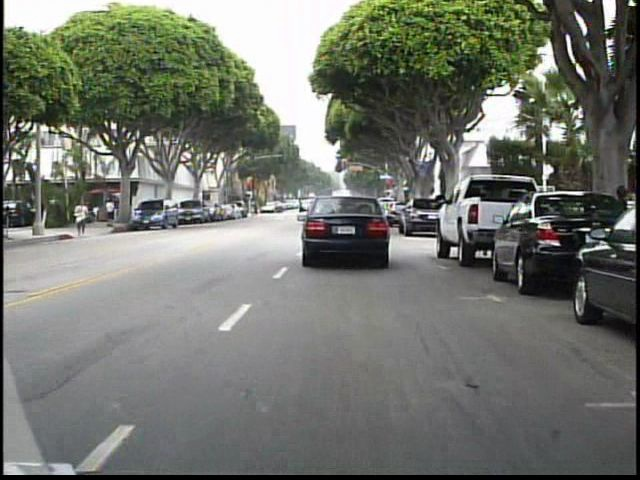person: (74, 196, 93, 239), (107, 196, 121, 228), (252, 199, 264, 220)
